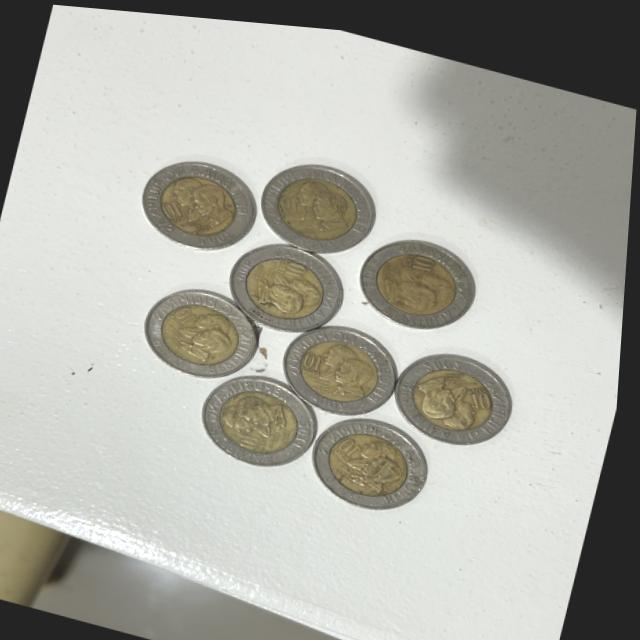10_Old_Front: (459, 369, 501, 419), (156, 191, 198, 226), (276, 181, 311, 217), (274, 250, 318, 278), (333, 421, 369, 455), (163, 299, 202, 329), (233, 421, 272, 450), (301, 339, 332, 373)
